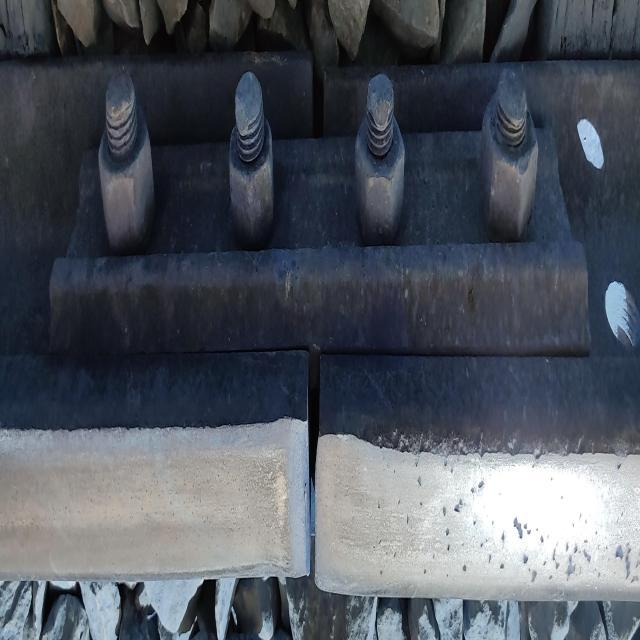Good Joint: (67, 105, 606, 354)
